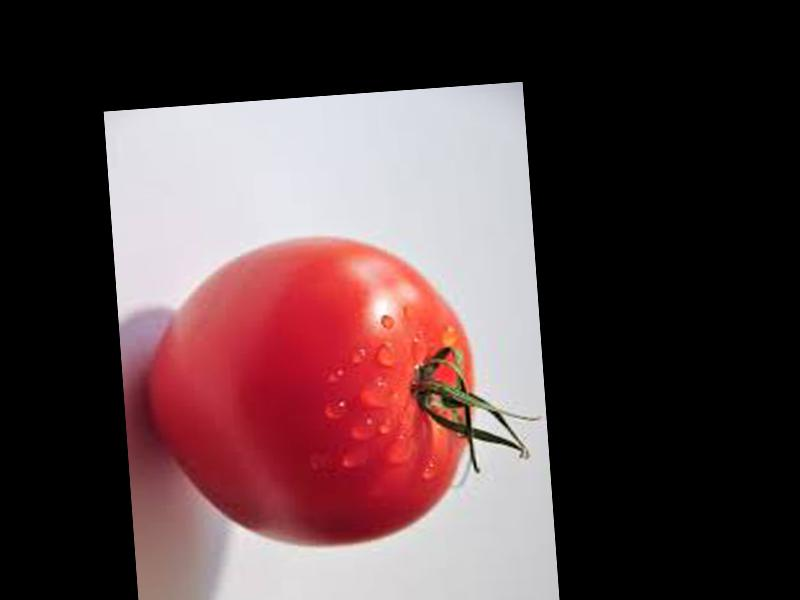Tomato: (138, 226, 480, 556)
